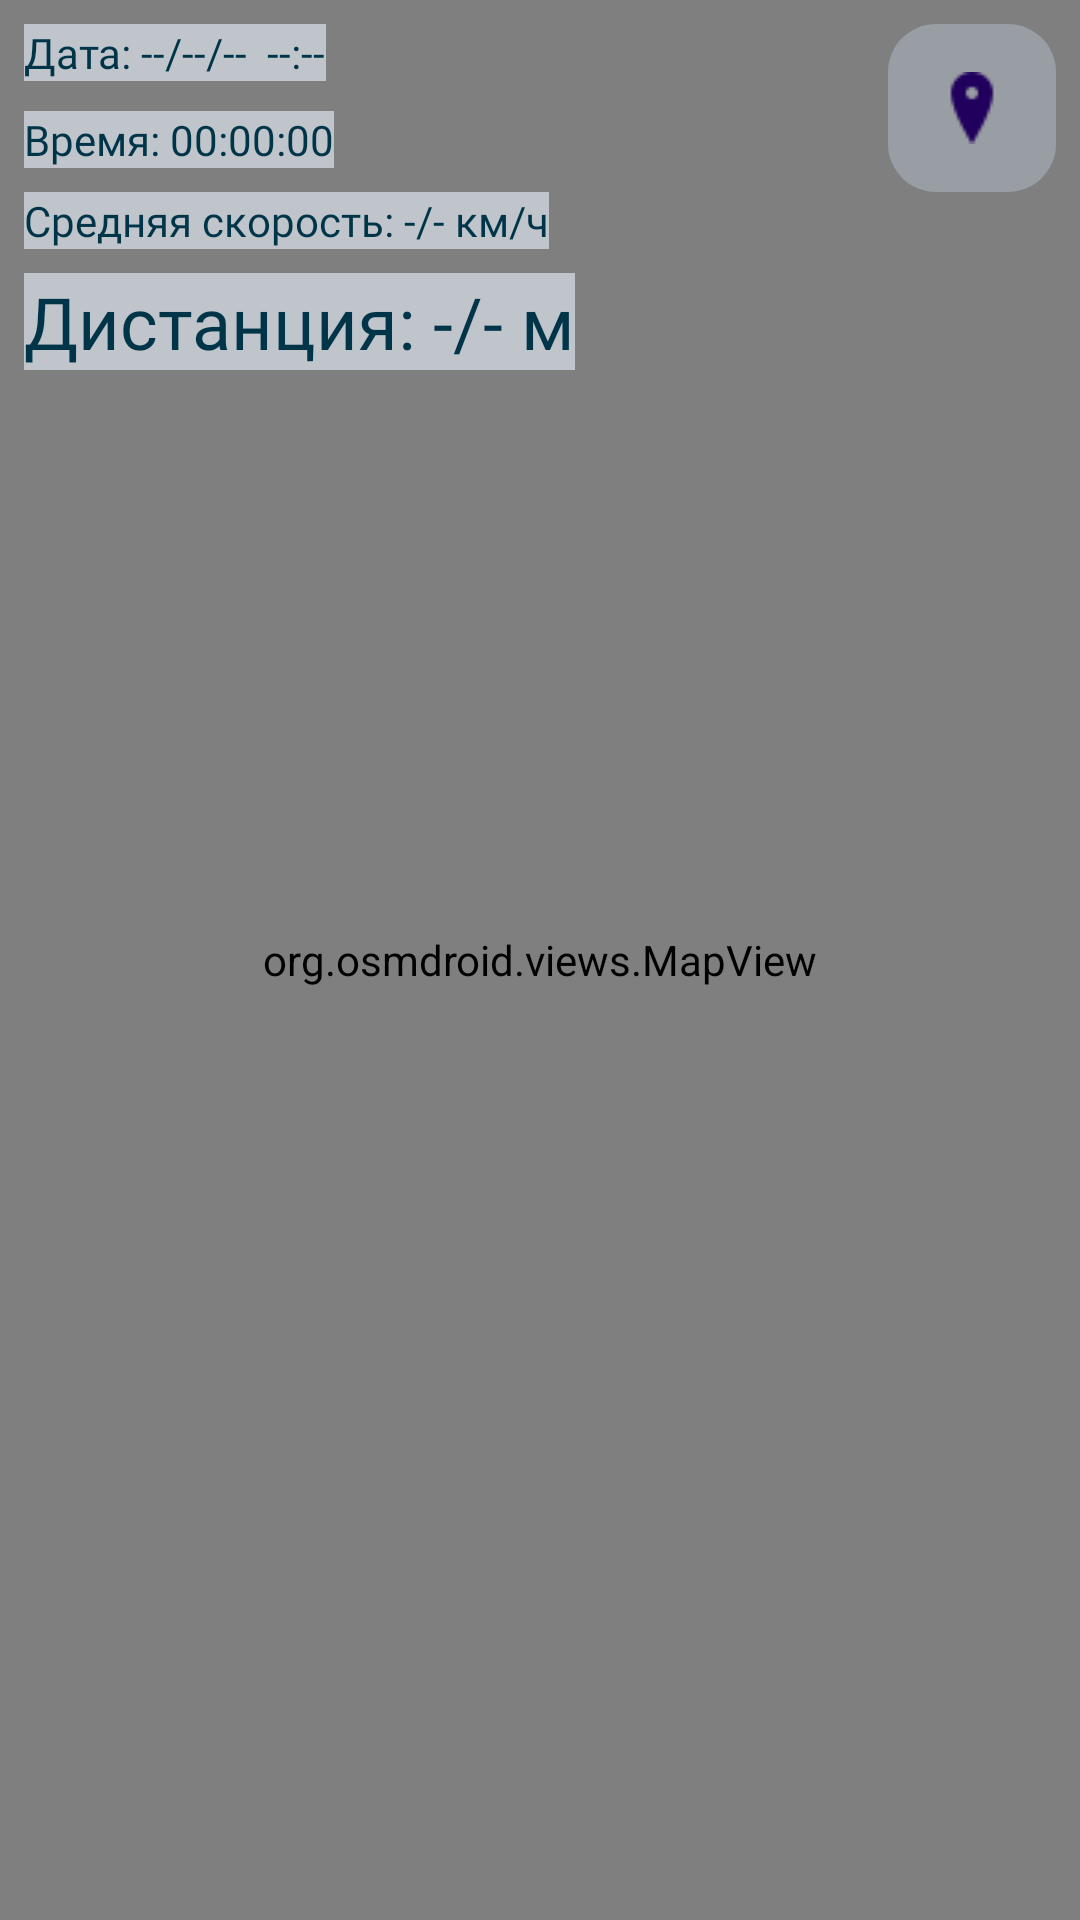

Screen size 1080×1920. Icon name, then its center in pixels as [x,y]:
location: [972,108]
